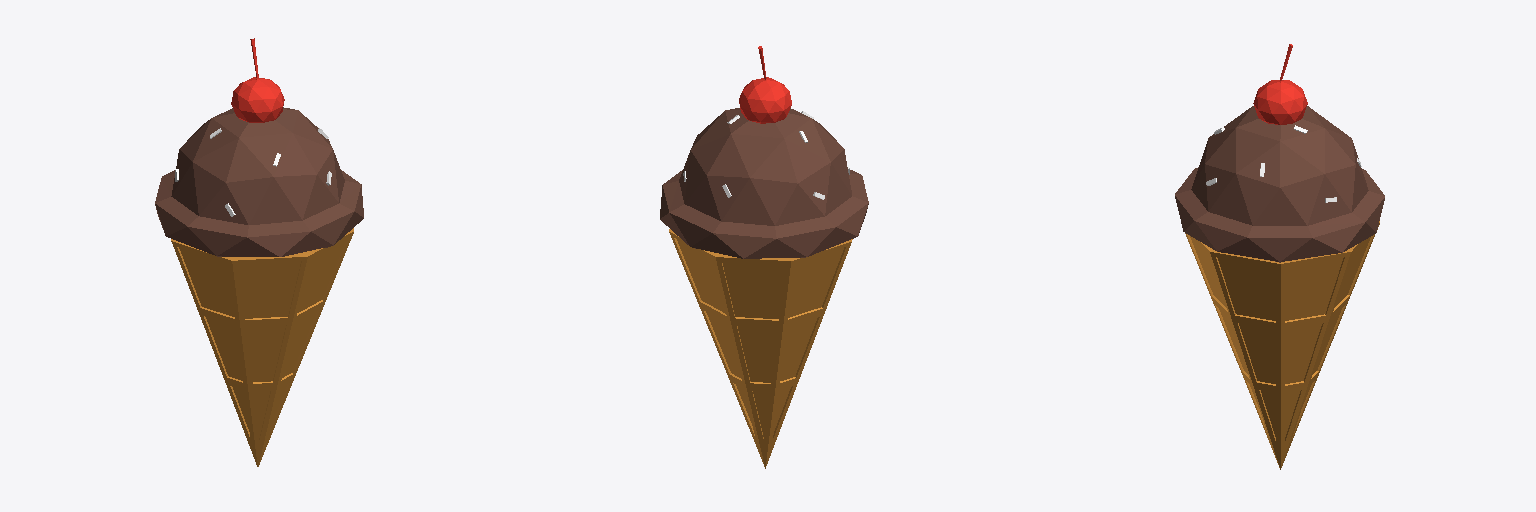
The model's file is ice.obj.
The picture shows the model from 3 angles: view 1: azimuth 30°, elevation 25°; view 2: azimuth 150°, elevation 25°; view 3: azimuth 270°, elevation 25°; orthographic projection.
Parts seen in each view (by area): view 1: Circle.003; view 2: Circle.003; view 3: Circle.003.
Part boxes in pixels (bbox=[...]): Circle.003: bbox=[155, 38, 363, 466]; Circle.003: bbox=[660, 46, 868, 468]; Circle.003: bbox=[1175, 44, 1384, 469].
Bounding box in the file's own units: 4.52 × 10.21 × 4.58.